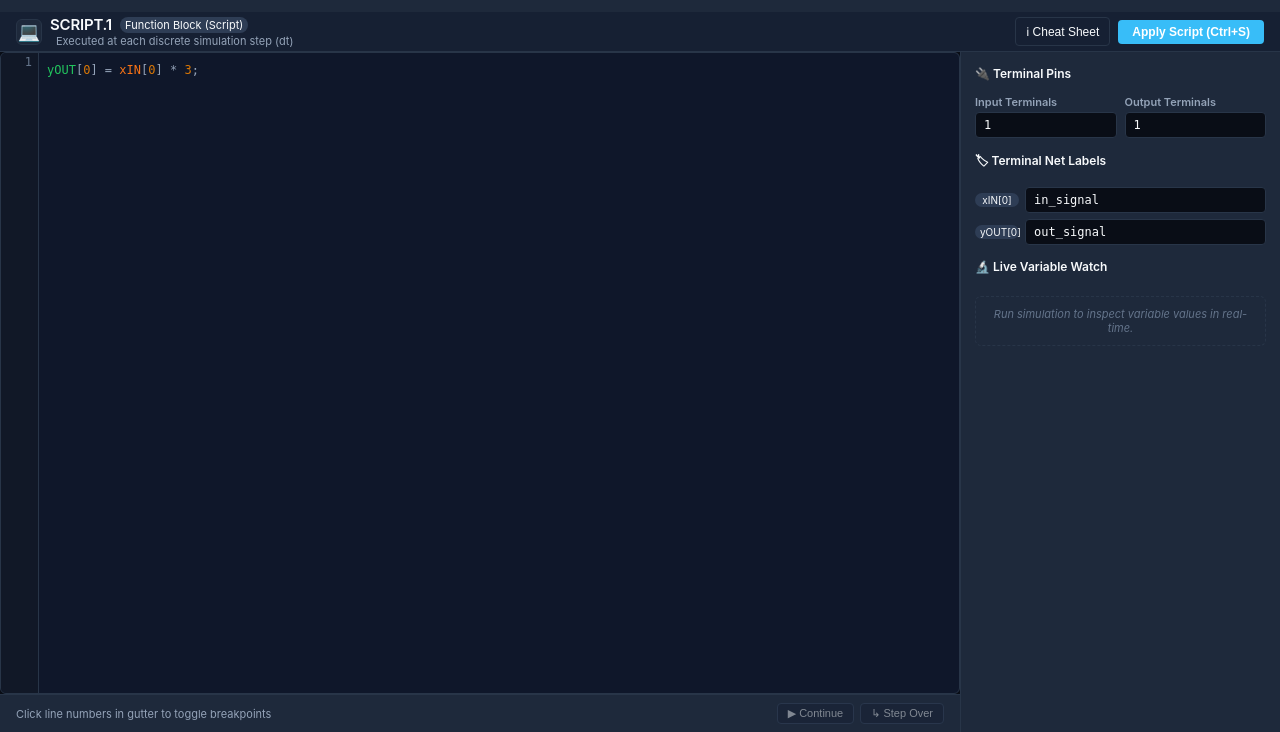
Test case: ScriptViewTab Component › toggles syntax cheat sheet
Click the button "ℹ Cheat Sheet" at (1063, 32), box [1015,17,1110,46]
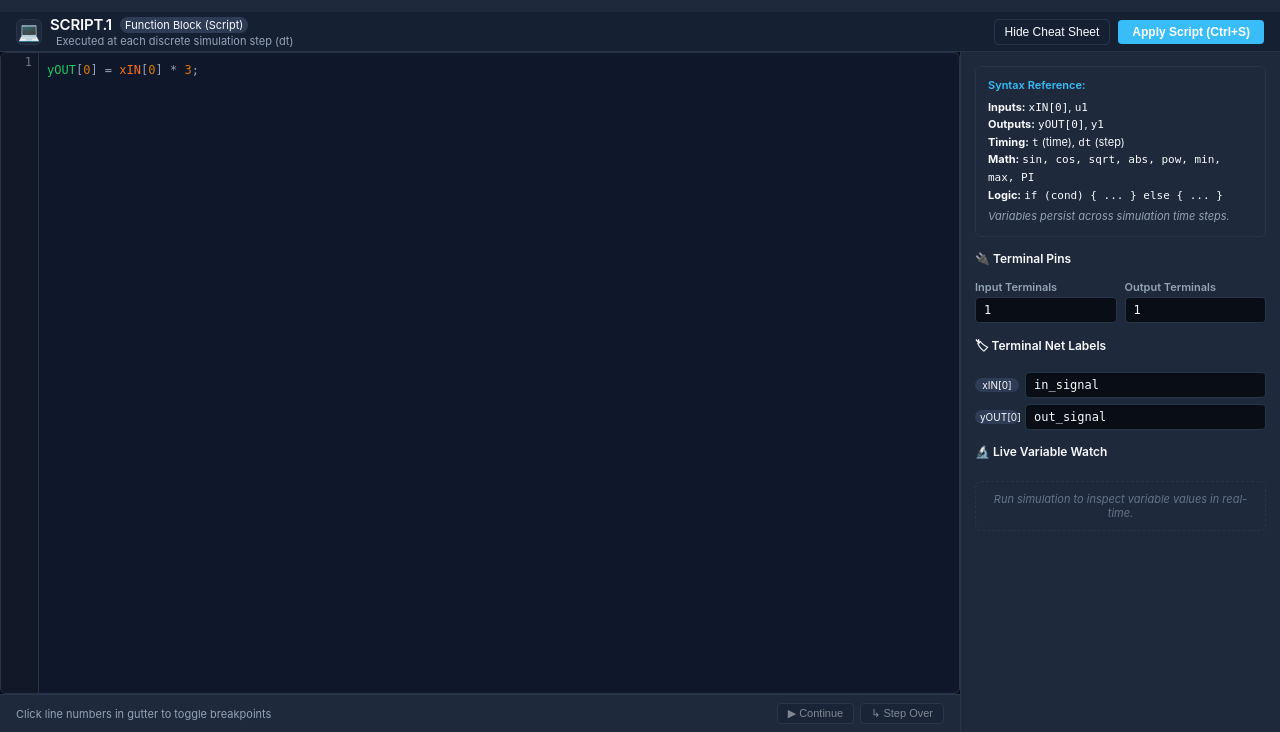
Result: the text "Syntax Reference:" is shown at [988,78,1086,92]
Result: the button "Hide Cheat Sheet" is shown at [994,18,1110,44]
